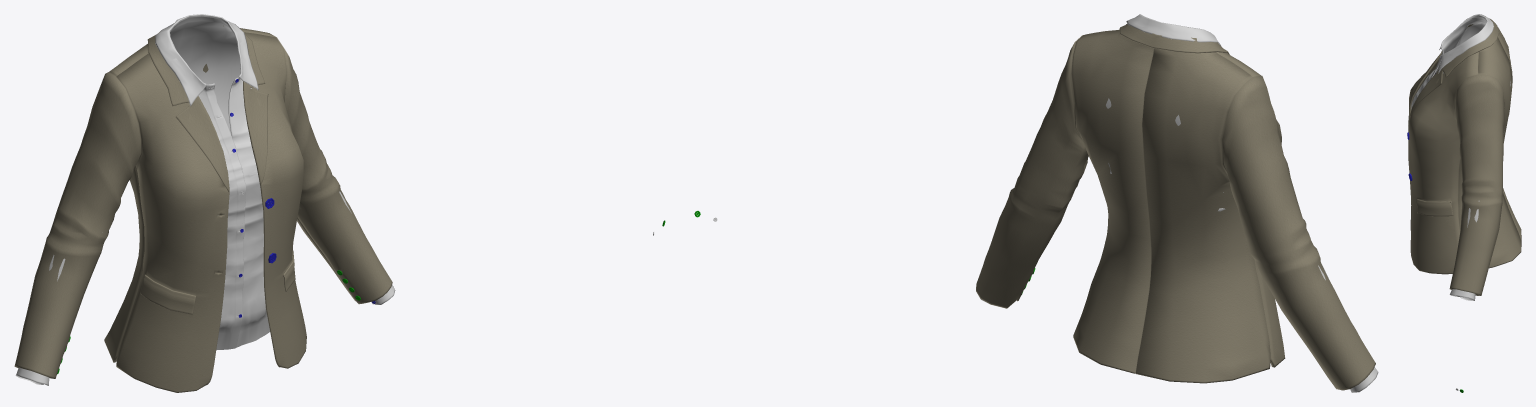
The model's file is brown-suit.obj.
3 renders of one model, left to right at view 1: azimuth 30°, elevation 25°; view 2: azimuth 150°, elevation 25°; view 3: azimuth 270°, elevation 25°, orthographic. The views are drawn at different scales.
Size of the model in its own units: 15.78 by 7.67 by 3.46.
5 materials, 1 textured.
